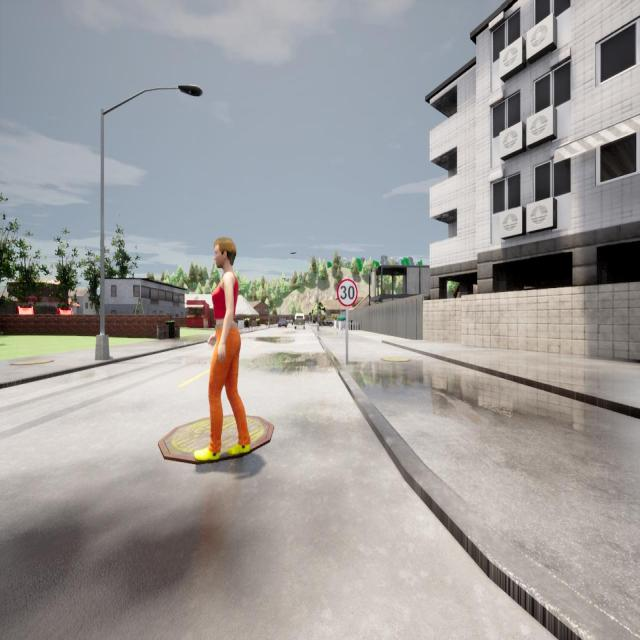Pedestrian: (194, 237, 250, 461)
Traffic_Signs: (337, 279, 358, 307)
Vehicle: (294, 313, 305, 330), (320, 318, 335, 327), (278, 317, 288, 328), (288, 317, 294, 325)
traffic_light: (312, 307, 313, 314)
